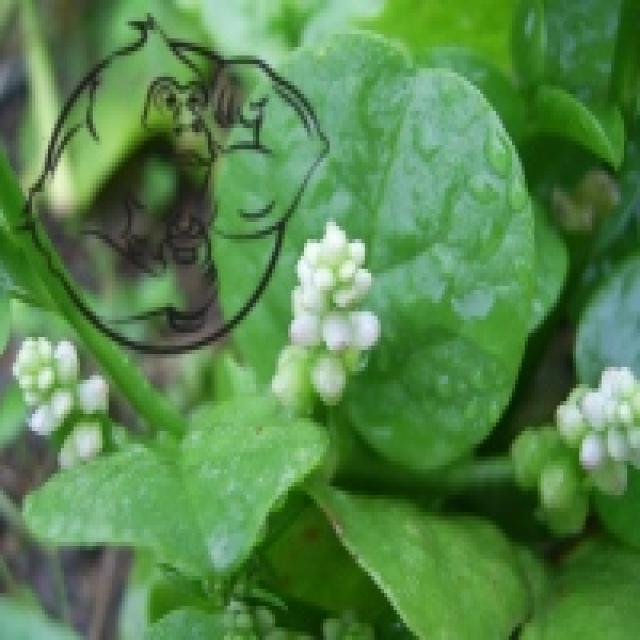Medicinal-Basale: (291, 100, 640, 640), (0, 334, 194, 620)
